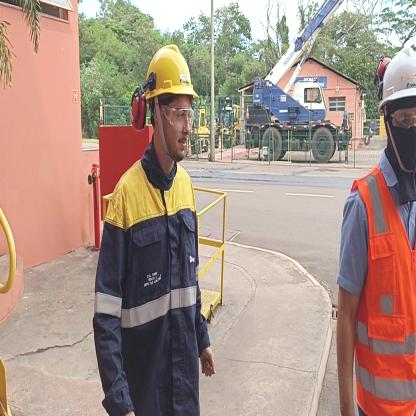Balaclava: (380, 106, 416, 185)
C_eletrica: (96, 157, 212, 415)
Capacete: (131, 39, 199, 100), (374, 50, 416, 102)
colete: (334, 163, 416, 416)
